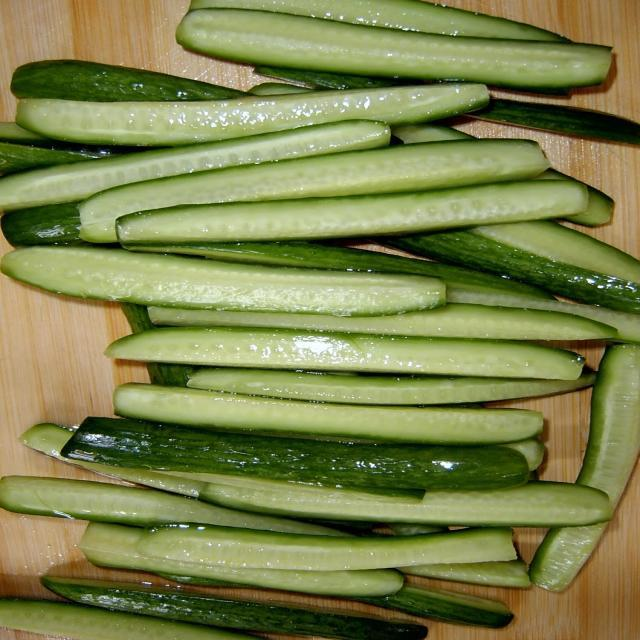cucumber: (63, 414, 533, 492)
